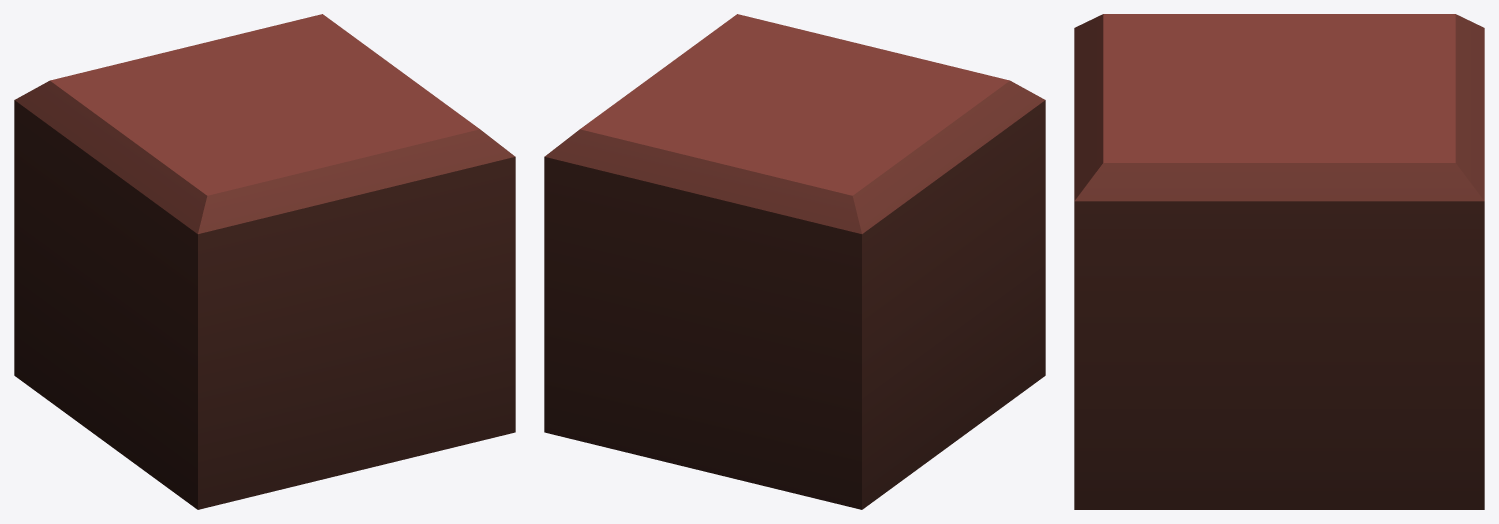
Rendered from explosives.glb.
3 renders of one model, left to right at view 1: azimuth 30°, elevation 25°; view 2: azimuth 150°, elevation 25°; view 3: azimuth 270°, elevation 25°, orthographic. The views are drawn at different scales.
Visible parts, largest first — view 1: explosives; view 2: explosives; view 3: explosives.
Boxes of the visible parts, x1,y1,x2,y2 form: explosives: (14,14,515,509); explosives: (544,14,1045,509); explosives: (1074,14,1484,509).
Size of the model in its own units: 0.17 by 0.153 by 0.17.
